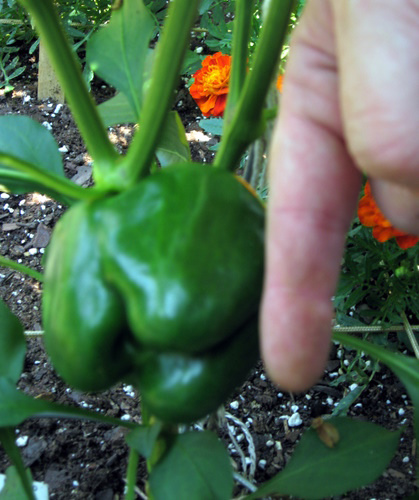capsicum: (38, 168, 262, 426)
